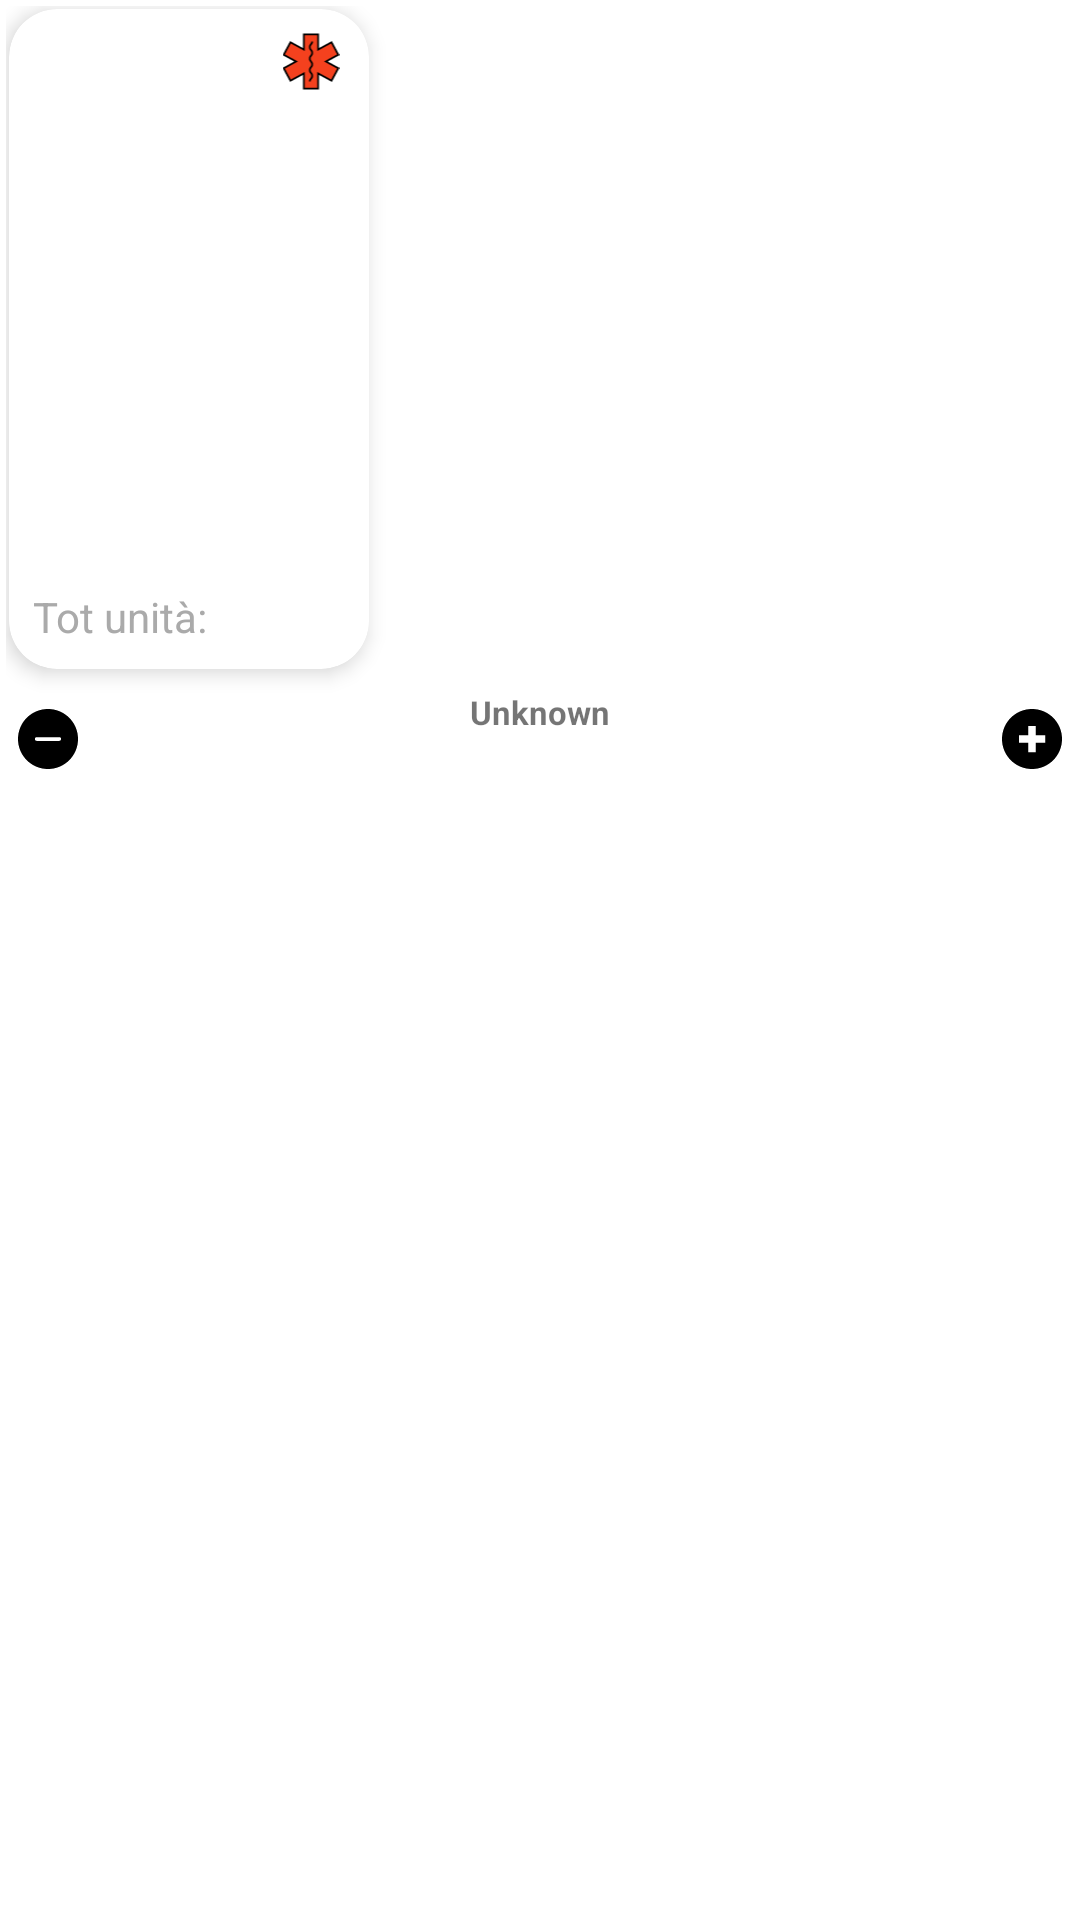

Screen size 1080px×1920px. Icon name, then its center in pixels as (x=x, y=y):
asterisk: (x=311, y=61)
minus: (x=48, y=739)
plus: (x=1032, y=739)
